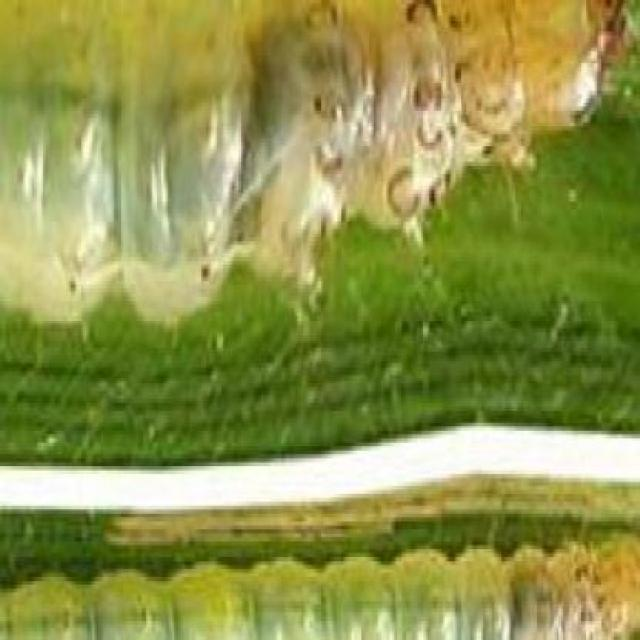leaf-folder: (0, 0, 555, 347), (24, 494, 638, 640)
